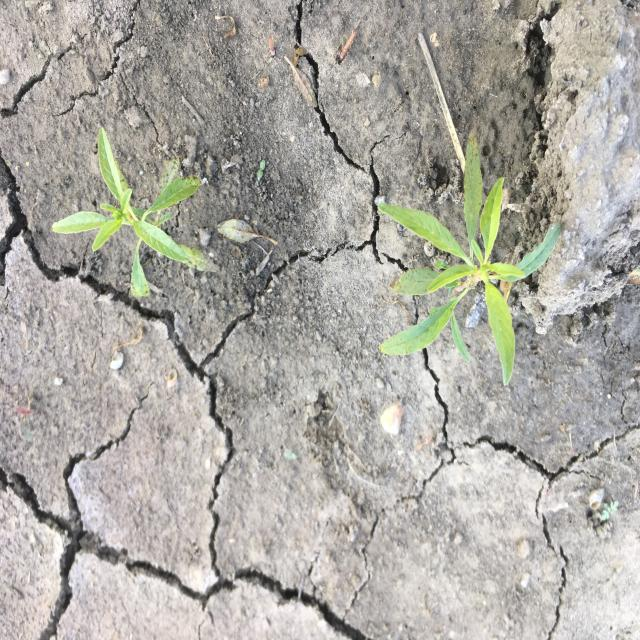Waterhemp: (376, 124, 563, 389), (51, 126, 220, 300)
